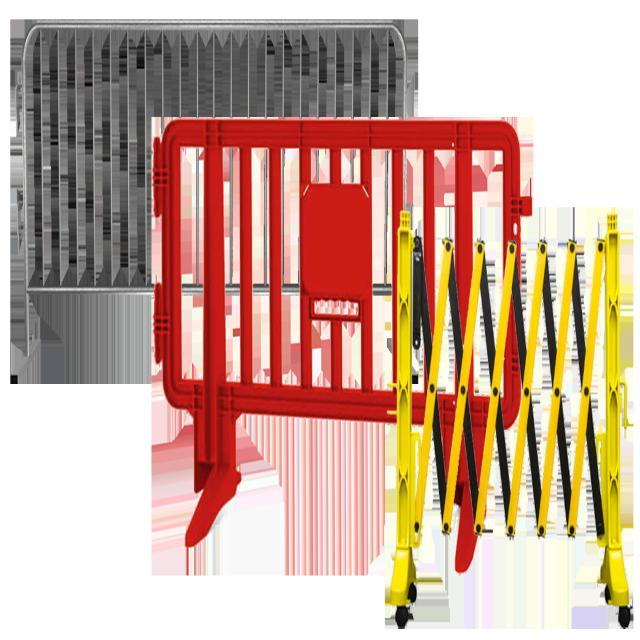cone: (151, 113, 633, 626)
